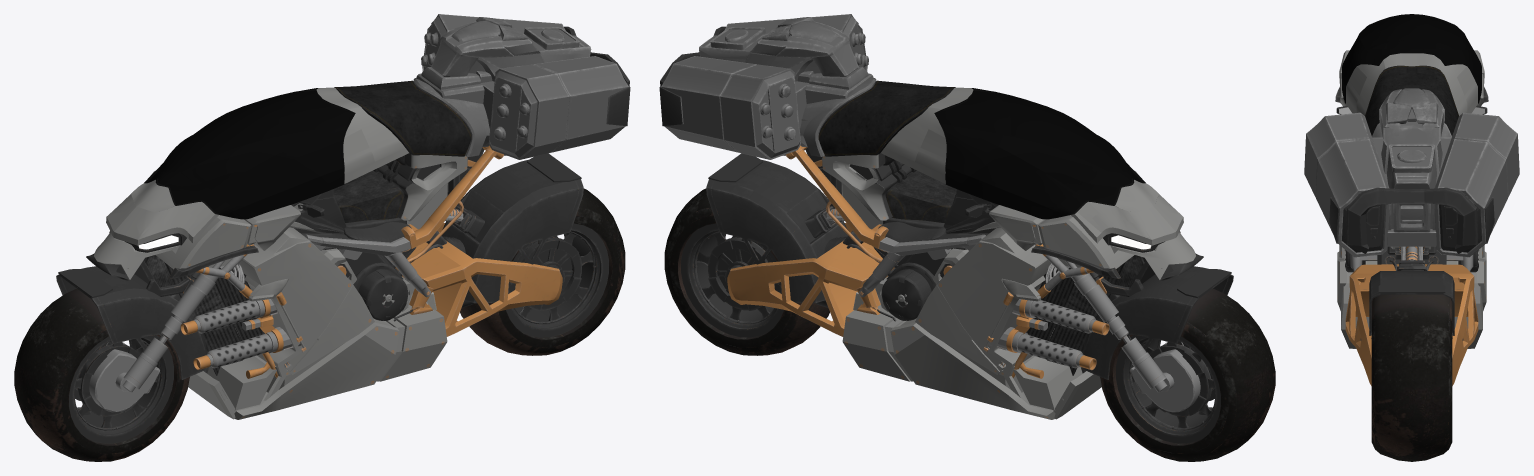
Rendered from Motorbike_ LOD_1.fbx.
3 renders of one model, left to right at view 1: azimuth 30°, elevation 25°; view 2: azimuth 150°, elevation 25°; view 3: azimuth 270°, elevation 25°, orthographic.
Parts seen in each view (by area): view 1: SM_ Bike_LOD_1_Body, SM_ Bike_LOD_1_FW, SM_ Bike_LOD_1_BW; view 2: SM_ Bike_LOD_1_Body, SM_ Bike_LOD_1_FW, SM_ Bike_LOD_1_BW; view 3: SM_ Bike_LOD_1_Body, SM_ Bike_LOD_1_BW.
Boxes of the visible parts, x1,y1,x2,y2 form: SM_ Bike_LOD_1_Body: [56, 14, 630, 419]; SM_ Bike_LOD_1_FW: [14, 288, 189, 461]; SM_ Bike_LOD_1_BW: [460, 188, 625, 355]; SM_ Bike_LOD_1_Body: [659, 14, 1233, 419]; SM_ Bike_LOD_1_FW: [1100, 288, 1275, 461]; SM_ Bike_LOD_1_BW: [664, 188, 829, 355]; SM_ Bike_LOD_1_Body: [1304, 14, 1519, 385]; SM_ Bike_LOD_1_BW: [1371, 294, 1452, 461].
Bounding box in the file's own units: 145 × 453 × 245.
Materials: 3 (2 with a texture image).
